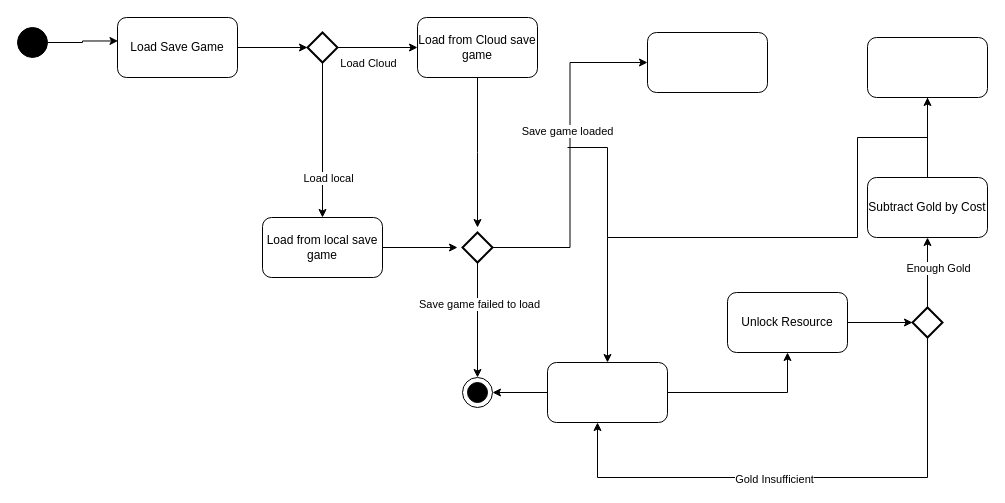
Image size: 1005x503. Some labels were removed from this diagram. Each missing label, with the box of its shape:
Auto Collect Gold: (646, 32, 768, 92)
Increase Gold Output: (866, 36, 988, 98)
Tap Coin: (546, 362, 668, 422)
